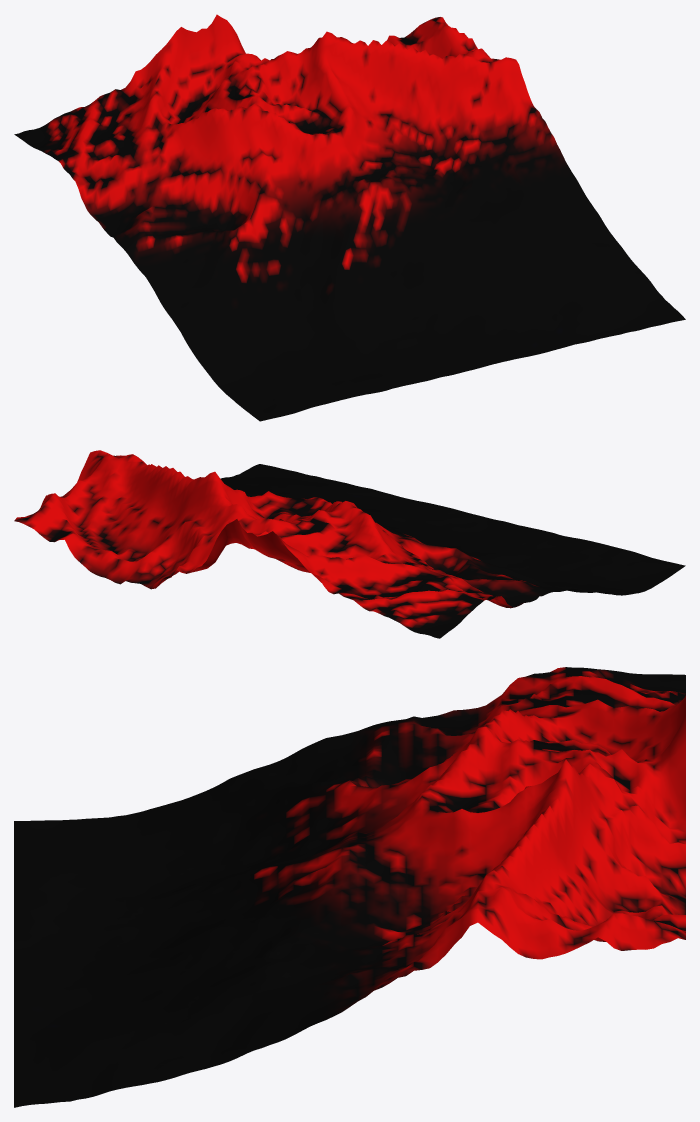
File: SM_AsirMountains_Terrain_3_1.fbx
3 views of the same model, one above another, from view 1: azimuth 30°, elevation 25°; view 2: azimuth 150°, elevation 25°; view 3: azimuth 270°, elevation 25° (orthographic). The views are drawn at different scales.
Visible parts, largest first — view 1: SM_AsirMountains_Terrain_3_1; view 2: SM_AsirMountains_Terrain_3_1; view 3: SM_AsirMountains_Terrain_3_1.
Part boxes in pixels (left/top/right/bottom): SM_AsirMountains_Terrain_3_1: left=14, top=14, right=685, bottom=421; SM_AsirMountains_Terrain_3_1: left=14, top=450, right=685, bottom=638; SM_AsirMountains_Terrain_3_1: left=14, top=667, right=685, bottom=1107.
Size of the model in its own units: 50400 by 20308 by 50400.
